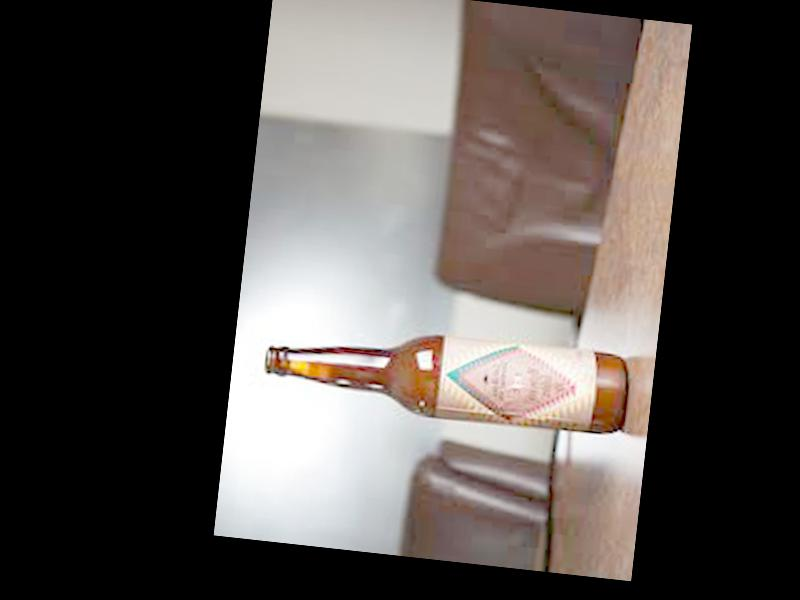Beer: (263, 318, 630, 437)
